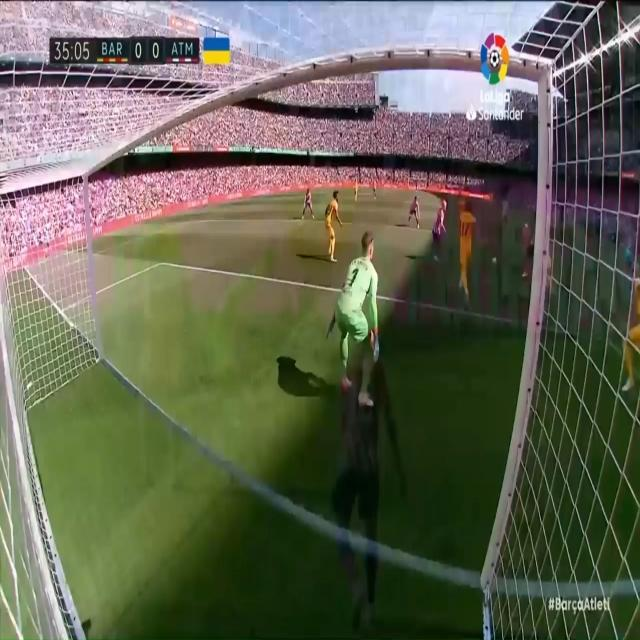ball: (488, 252, 500, 272)
goalkeeper: (320, 225, 392, 421)
player: (612, 244, 640, 404), (453, 191, 476, 311), (429, 190, 451, 273), (320, 182, 341, 265), (405, 188, 422, 236), (300, 176, 316, 226)
